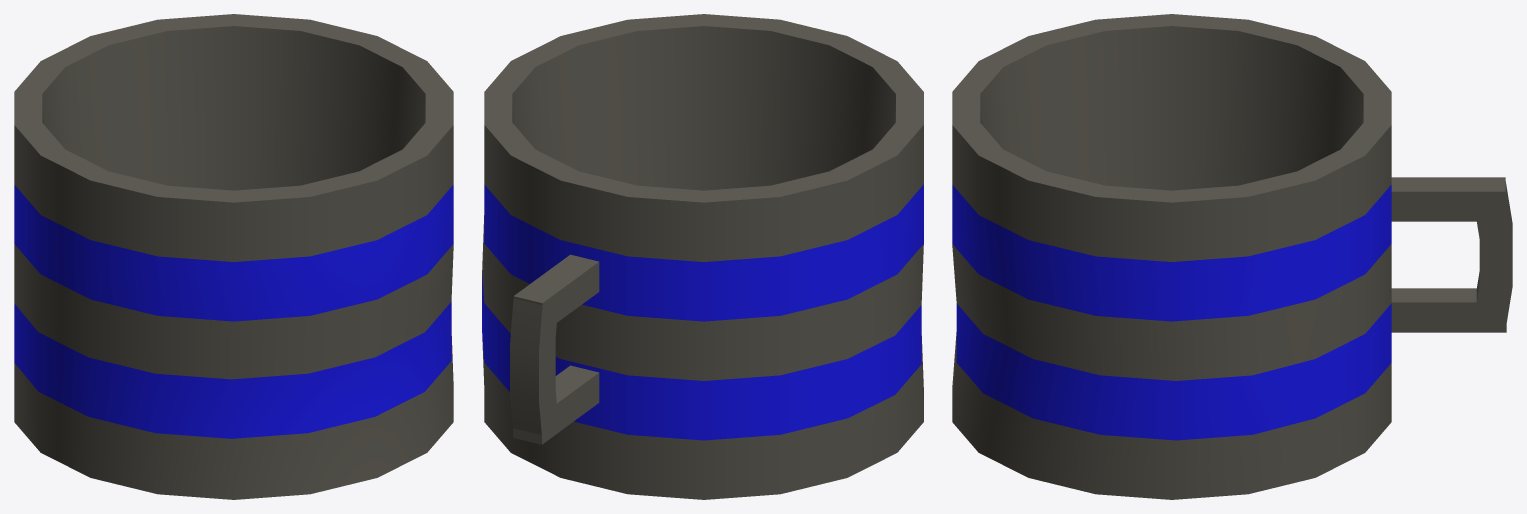
Rendered from cup.fbx.
3 renders of one model, left to right at view 1: azimuth 30°, elevation 25°; view 2: azimuth 150°, elevation 25°; view 3: azimuth 270°, elevation 25°, orthographic.
Visible parts, largest first — view 1: Cylinder001; view 2: Cylinder001, Box003, Box002, Box004; view 3: Cylinder001, Box002, Box004, Box003.
Boxes of the visible parts, x1=… form: Cylinder001: x1=14, y1=14, x2=453, y2=499; Cylinder001: x1=482, y1=14, x2=923, y2=499; Box003: x1=510, y1=292, x2=559, y2=443; Box002: x1=513, y1=254, x2=599, y2=332; Box004: x1=513, y1=365, x2=599, y2=444; Cylinder001: x1=952, y1=14, x2=1391, y2=499; Box002: x1=1391, y1=177, x2=1505, y2=221; Box004: x1=1391, y1=288, x2=1506, y2=332; Box003: x1=1472, y1=181, x2=1512, y2=332.
Bounding box in the file's own units: 10.61 × 7.8 × 13.32.
